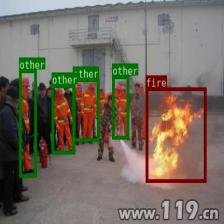fire: (145, 87, 206, 182)
